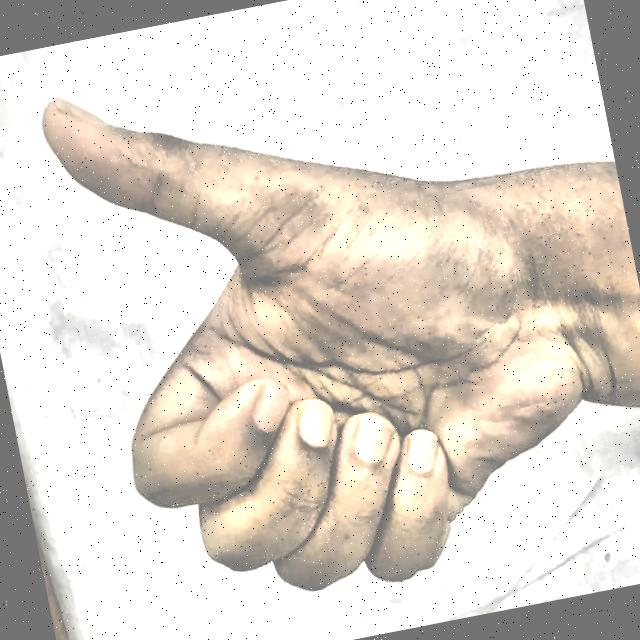Do: (8, 0, 614, 640)
